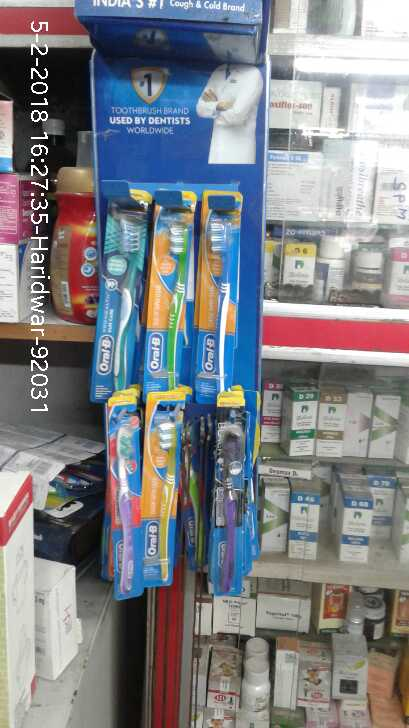oralb: (92, 187, 145, 400), (151, 188, 190, 395), (104, 395, 143, 597), (200, 188, 236, 399), (144, 392, 177, 588), (213, 393, 244, 594)
